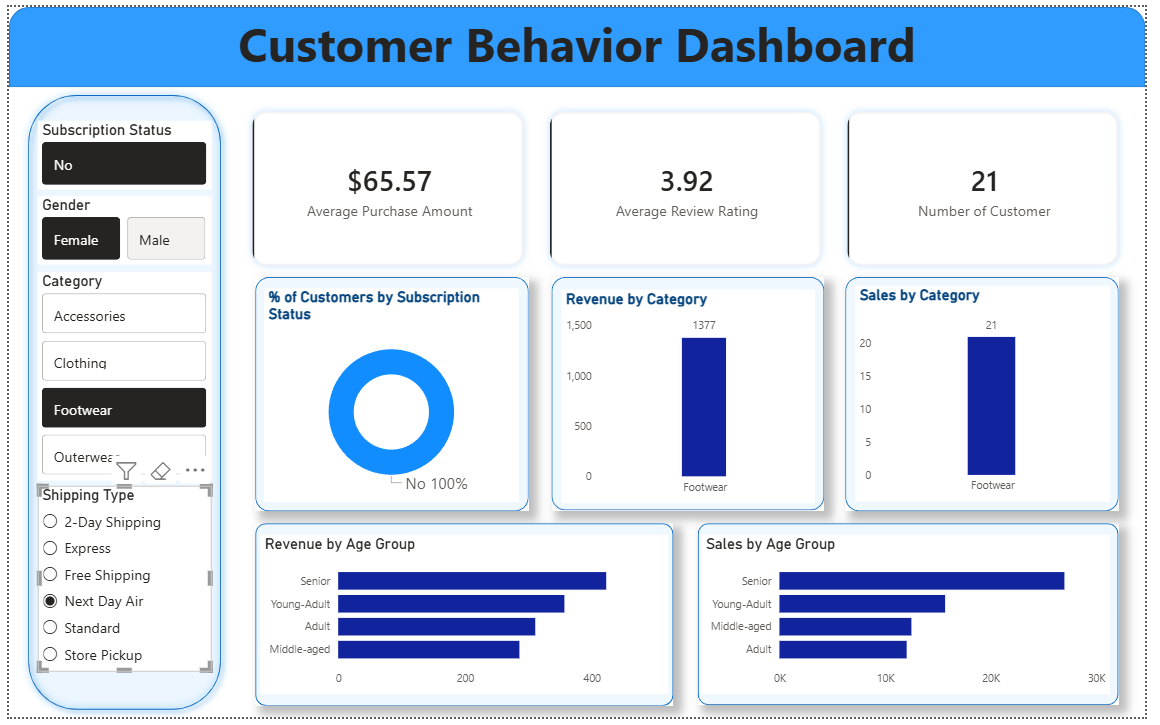

This screenshot's page, from the dashboard's own definition file:
{"tool":"powerbi","page":{"name":"Page 1","canvas":[1280,800],"ordinal":0},"visuals":[{"type":"cardVisual","fields":{"Data":["customers.Average Purchase Amount","customers.Average Review Rating","customers.Number of Customer"]},"box":[247,90.5,1033.3,229.9],"z":0},{"type":"shape","box":[0,0,1280.3,90.5],"z":1000},{"type":"textbox","box":[0,0,1280.3,90.5],"z":2000},{"type":"shape","box":[278.1,304,308.2,264.1],"z":3000},{"type":"donutChart","title":" % of Customers by Subscription Status","fields":{"Category":["customers.subscription_status"],"Y":["CountNonNull(customers.customer_id)"]},"box":[287.9,316.2,287.4,240.9],"z":4000},{"type":"shape","box":[610.9,303.7,307.5,263],"z":5000},{"type":"clusteredColumnChart","title":"Revenue by Category","fields":{"Y":["Sum(customers.purchase_amount)"],"Category":["customers.category"]},"box":[622.1,317.7,285.2,240.7],"z":6000},{"type":"shape","box":[942.1,304,308.2,264.1],"z":7000},{"type":"clusteredColumnChart","title":"Sales by Category","fields":{"Category":["customers.category"],"Y":["CountNonNull(customers.customer_id)"]},"box":[953.1,313.8,287.4,243.3],"z":8000},{"type":"shape","box":[12.2,89.7,235.1,710.6],"z":9000},{"type":"advancedSlicerVisual","title":"Subscription Status","fields":{"Values":["customers.subscription_status"]},"box":[32.6,127.7,195.7,77.4],"z":10000},{"type":"advancedSlicerVisual","title":"Gender","fields":{"Values":["customers.gender"]},"box":[32.6,213.3,195.7,77.4],"z":11000},{"type":"advancedSlicerVisual","title":"Category","fields":{"Values":["customers.category"]},"box":[31.9,298.2,195.8,234.9],"z":12000},{"type":"listSlicer","title":"Shipping Type","fields":{"Values":["customers.shipping_type"]},"box":[31.9,539.8,195.8,209.6],"z":13000},{"type":"shape","box":[277.9,581.7,471.2,205.8],"z":14000},{"type":"clusteredBarChart","title":"Revenue by Age Group","fields":{"Y":["Sum(customers.purchase_amount)"],"Category":["customers.age_group"]},"box":[283.8,593.8,460,180],"z":15000},{"type":"shape","box":[776,581.7,474,204.8],"z":15001},{"type":"clusteredBarChart","title":"Sales by Age Group","fields":{"Category":["customers.age_group"],"Y":["Sum(customers.customer_id)"]},"box":[780,593.8,460,180],"z":15002}]}

Visuals, with their boxes in screenshot pixels (x1, y1, x2, y2), scaled from the page's 1280x800 canvas onto the 1160x725 screenshot:
cardVisual - customers.Average Purchase Amount x customers.Average Review Rating: (224,82,1159,290)
shape: (0,0,1159,82)
textbox: (0,0,1159,82)
shape: (252,276,531,515)
" % of Customers by Subscription Status" donutChart: (261,287,521,505)
shape: (554,275,832,514)
"Revenue by Category" clusteredColumnChart: (564,288,822,506)
shape: (854,276,1133,515)
"Sales by Category" clusteredColumnChart: (864,284,1124,505)
shape: (11,81,224,724)
"Subscription Status" advancedSlicerVisual: (30,116,207,186)
"Gender" advancedSlicerVisual: (30,193,207,263)
"Category" advancedSlicerVisual: (29,270,206,483)
"Shipping Type" listSlicer: (29,489,206,679)
shape: (252,527,679,714)
"Revenue by Age Group" clusteredBarChart: (257,538,674,701)
shape: (703,527,1133,713)
"Sales by Age Group" clusteredBarChart: (707,538,1124,701)
